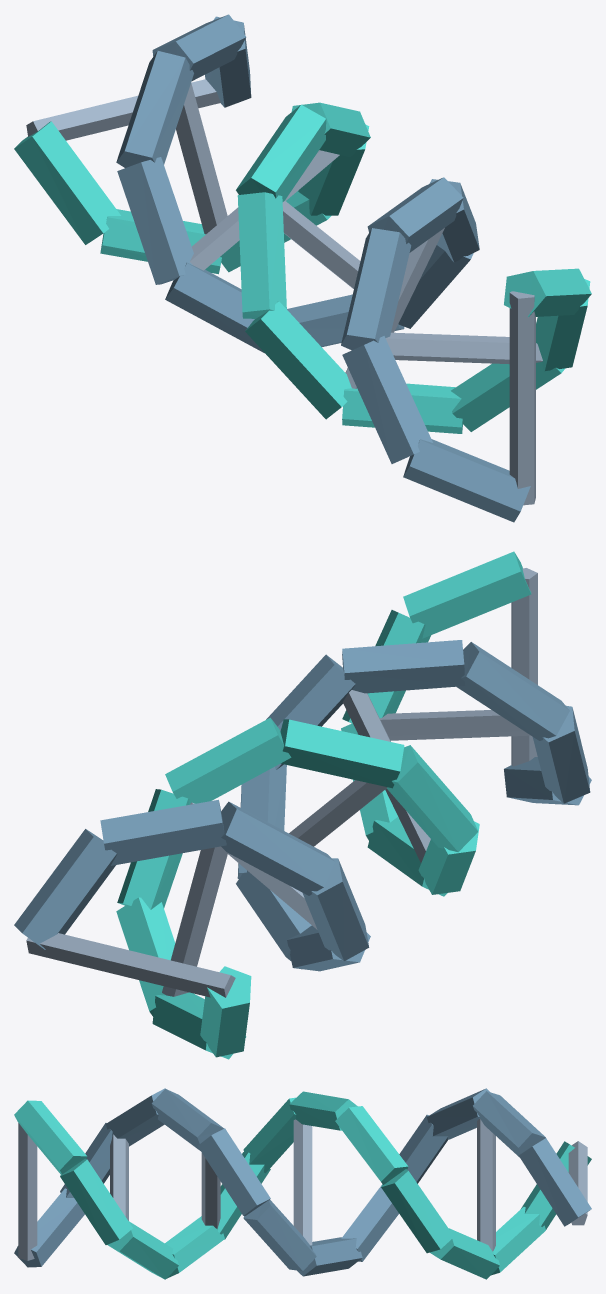
Rendered from dna.obj.
The picture shows the model from 3 angles, top to bottom: view 1: azimuth 30°, elevation 25°; view 2: azimuth 150°, elevation 25°; view 3: azimuth 270°, elevation 25°; orthographic projection. The views are drawn at different scales.
Visible parts, largest first — view 1: part12, part10, part3, part11, part19, part18, part9, part30, part2, part17, part4, part25 (+19 smaller); view 2: part23, part1, part8, part17, part0, part2, part16, part24, part9, part18, part3, part29 (+19 smaller); view 3: part7, part0, part22, part15, part16, part23, part6, part30, part1, part27, part25, part11 (+18 smaller).
Boxes of the visible parts, x1=… form: part12: x1=14, y1=121, x2=120, y2=244; part10: x1=342, y1=336, x2=432, y2=463; part3: x1=117, y1=157, x2=193, y2=284; part11: x1=403, y1=439, x2=530, y2=522; part19: x1=245, y1=301, x2=351, y2=419; part18: x1=237, y1=192, x2=286, y2=318; part9: x1=341, y1=228, x2=411, y2=350; part30: x1=509, y1=291, x2=535, y2=505; part2: x1=116, y1=51, x2=193, y2=167; part17: x1=236, y1=104, x2=326, y2=201; part4: x1=165, y1=262, x2=264, y2=353; part25: x1=176, y1=83, x2=227, y2=234; part23: x1=403, y1=551, x2=531, y2=638; part1: x1=100, y1=799, x2=226, y2=865; part8: x1=342, y1=640, x2=465, y2=693; part17: x1=280, y1=719, x2=404, y2=788; part0: x1=14, y1=829, x2=117, y2=949; part2: x1=221, y1=801, x2=334, y2=895; part16: x1=165, y1=717, x2=291, y2=804; part24: x1=26, y1=933, x2=235, y2=997; part9: x1=456, y1=642, x2=569, y2=740; part18: x1=386, y1=745, x2=478, y2=852; part3: x1=302, y1=858, x2=369, y2=961; part29: x1=379, y1=710, x2=530, y2=740; part7: x1=198, y1=1128, x2=270, y2=1215; part0: x1=518, y1=1138, x2=591, y2=1226; part22: x1=60, y1=1158, x2=132, y2=1244; part15: x1=381, y1=1169, x2=453, y2=1253; part16: x1=335, y1=1106, x2=408, y2=1184; part23: x1=14, y1=1100, x2=87, y2=1174; part6: x1=243, y1=1200, x2=316, y2=1271; part30: x1=18, y1=1123, x2=37, y2=1260; part1: x1=473, y1=1091, x2=545, y2=1157; part27: x1=293, y1=1119, x2=312, y2=1245; part25: x1=477, y1=1119, x2=495, y2=1251; part11: x1=14, y1=1188, x2=84, y2=1267.
Size of the model in its own units: 0.668 by 0.668 by 2.02.
